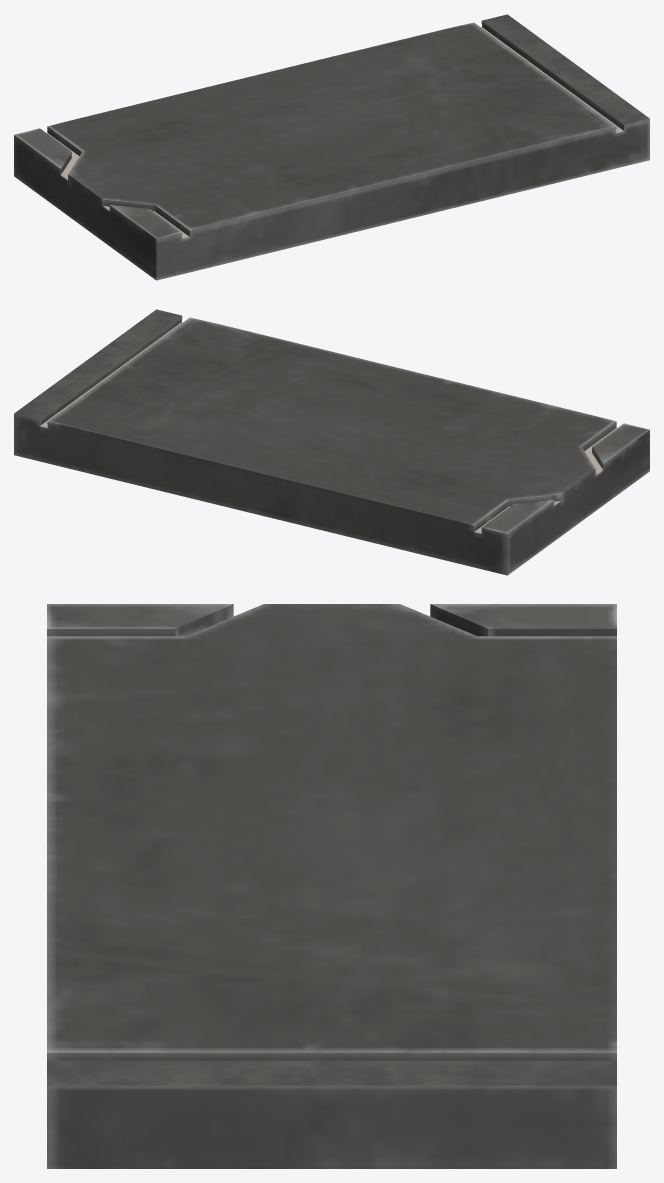
File: FUT0510039.fbx
3 renders of one model, top to bottom at view 1: azimuth 30°, elevation 25°; view 2: azimuth 150°, elevation 25°; view 3: azimuth 270°, elevation 25°, orthographic. The views are drawn at different scales.
Visible parts, largest first — view 1: smFUT0510039; view 2: smFUT0510039; view 3: smFUT0510039.
Boxes of the visible parts, x1,y1,x2,y2 form: smFUT0510039: (14,14,649,280); smFUT0510039: (14,309,649,575); smFUT0510039: (47,604,616,1168).
Bounding box in the file's own units: 168 × 13.68 × 83.97.
Materials: 1 (1 with a texture image).
